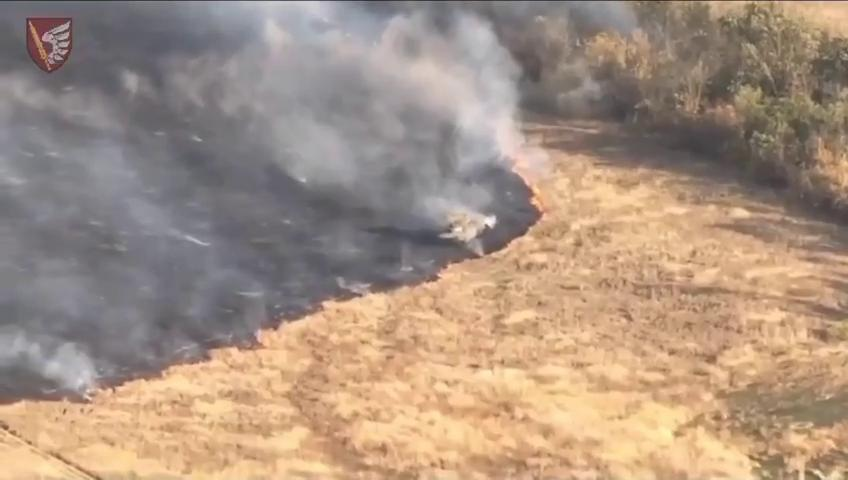tank: (437, 208, 497, 252)
